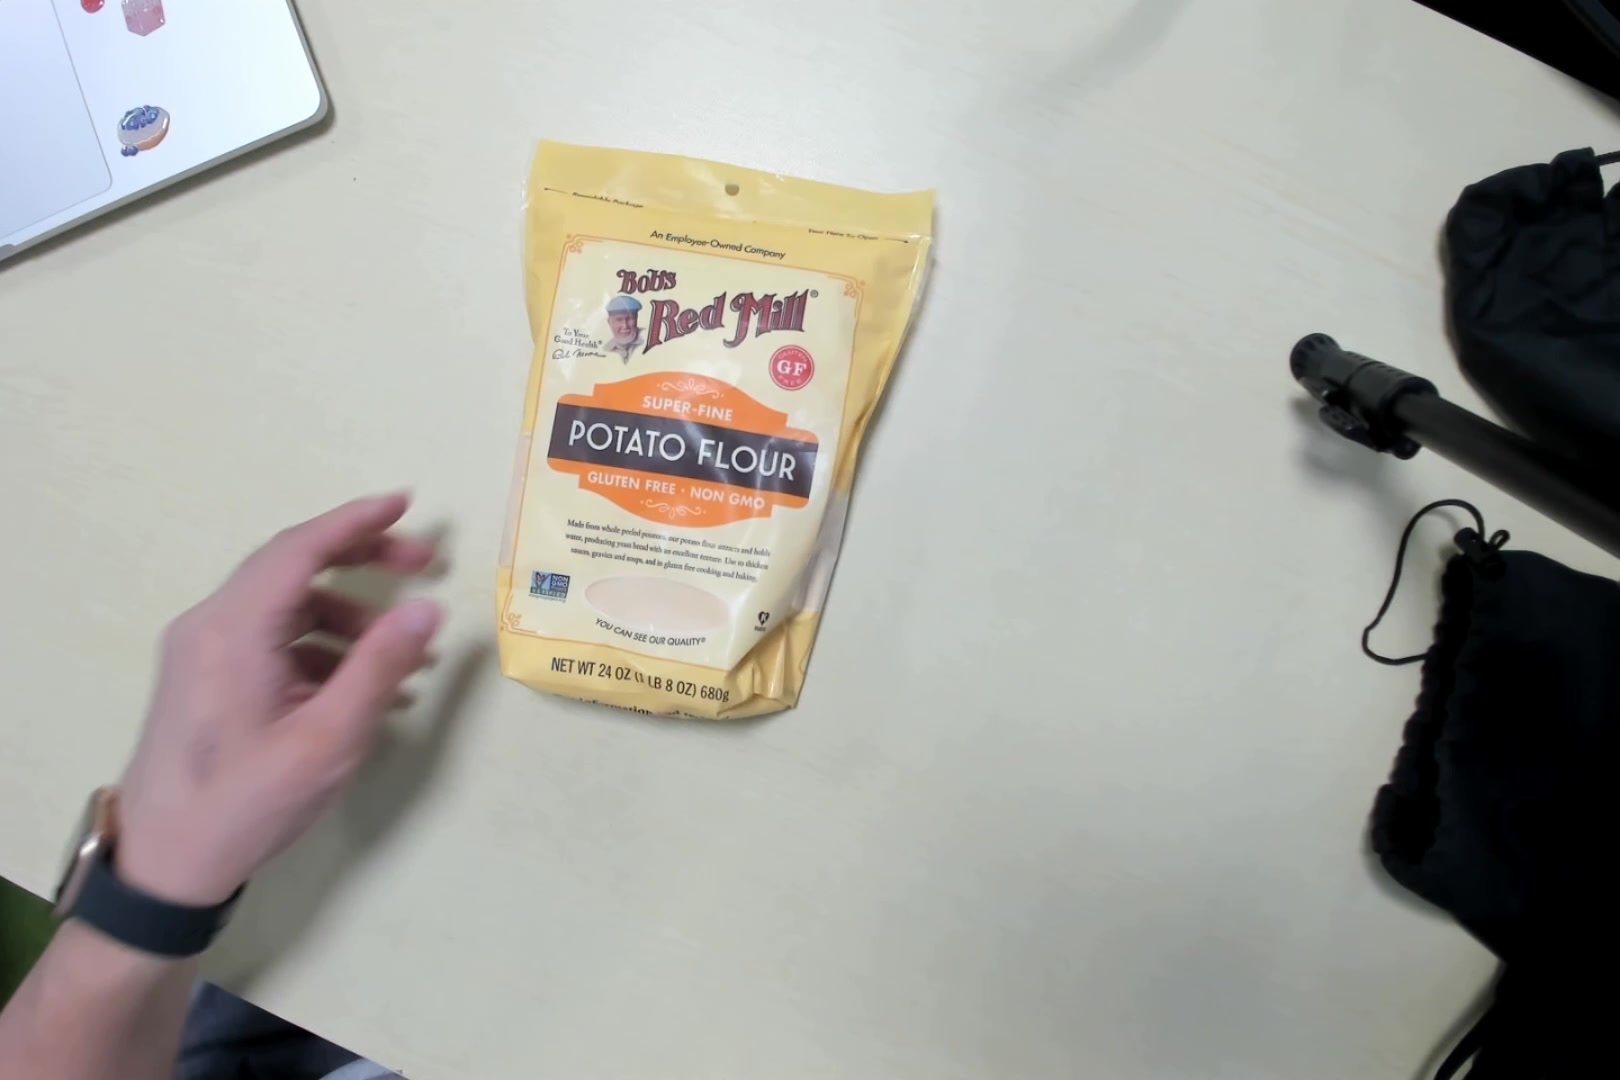OtherBakingNeeds_600-699g_NonHalal_NonHealthy: (487, 149, 944, 727)
